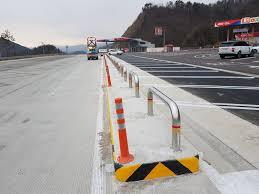Animal: (138, 90, 192, 156), (105, 95, 142, 167), (129, 67, 140, 97), (119, 64, 130, 85), (105, 72, 116, 85)
